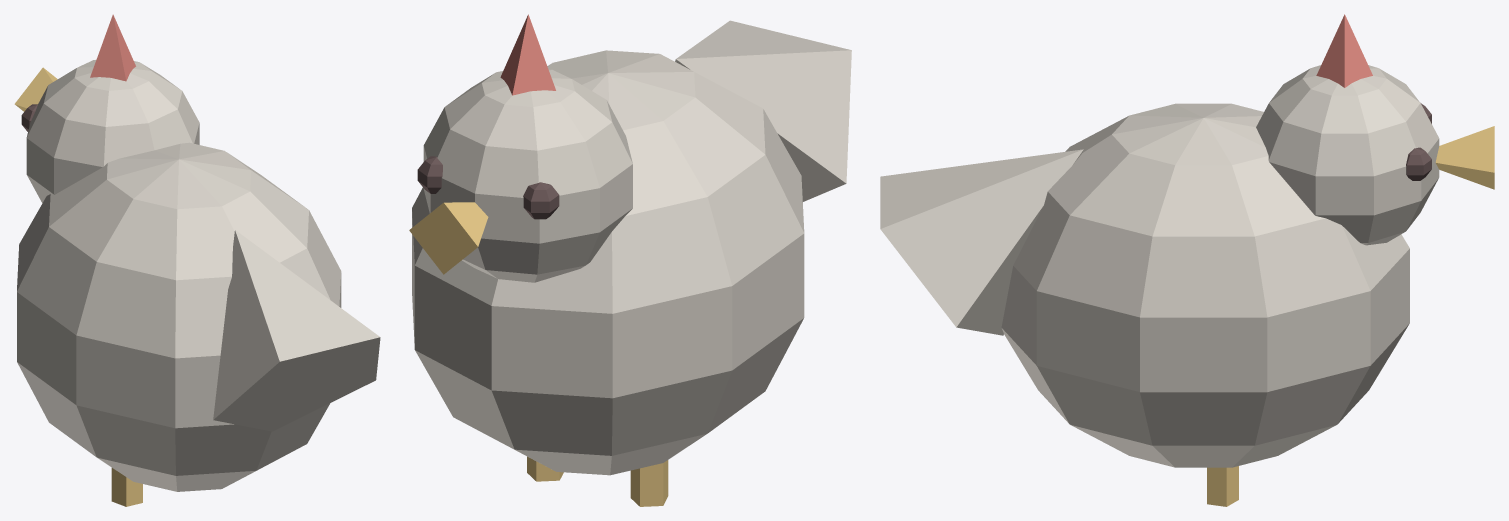
The model's file is chicken.glb.
The picture shows the model from 3 angles, left to right: view 1: azimuth 30°, elevation 25°; view 2: azimuth 150°, elevation 25°; view 3: azimuth 270°, elevation 25°; orthographic projection. The views are drawn at different scales.
Parts seen in each view (by area): view 1: chicken; view 2: chicken; view 3: chicken.
Part boxes in pixels (bbox=[...]): chicken: bbox=[14, 14, 380, 506]; chicken: bbox=[409, 14, 851, 506]; chicken: bbox=[880, 14, 1494, 506].
Size of the model in its own units: 0.3709 by 0.58 by 0.6967.
